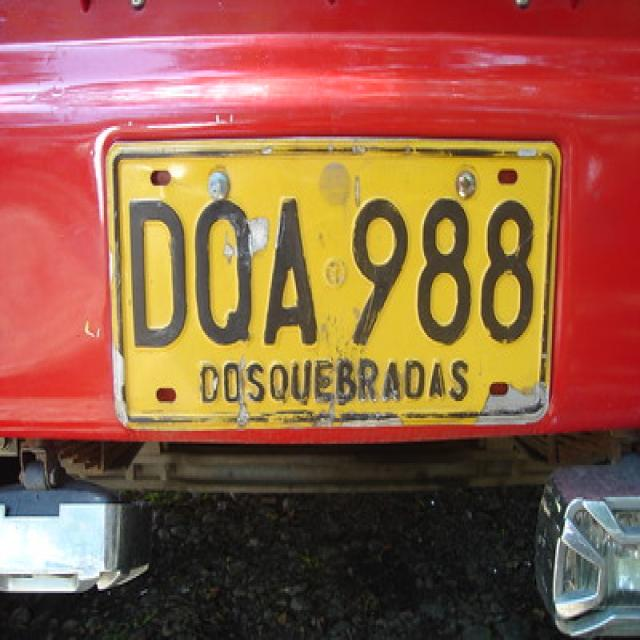placa_carro: (95, 122, 558, 448)
